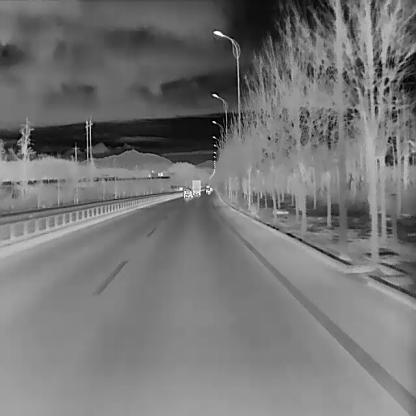car: (192, 180, 201, 196), (183, 187, 192, 197), (207, 190, 211, 195)
